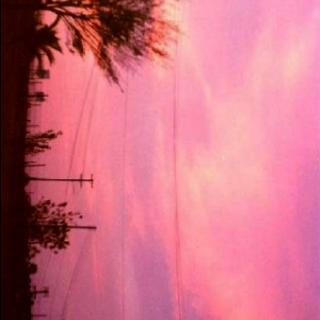Cirrostratus: (50, 39, 192, 320)
